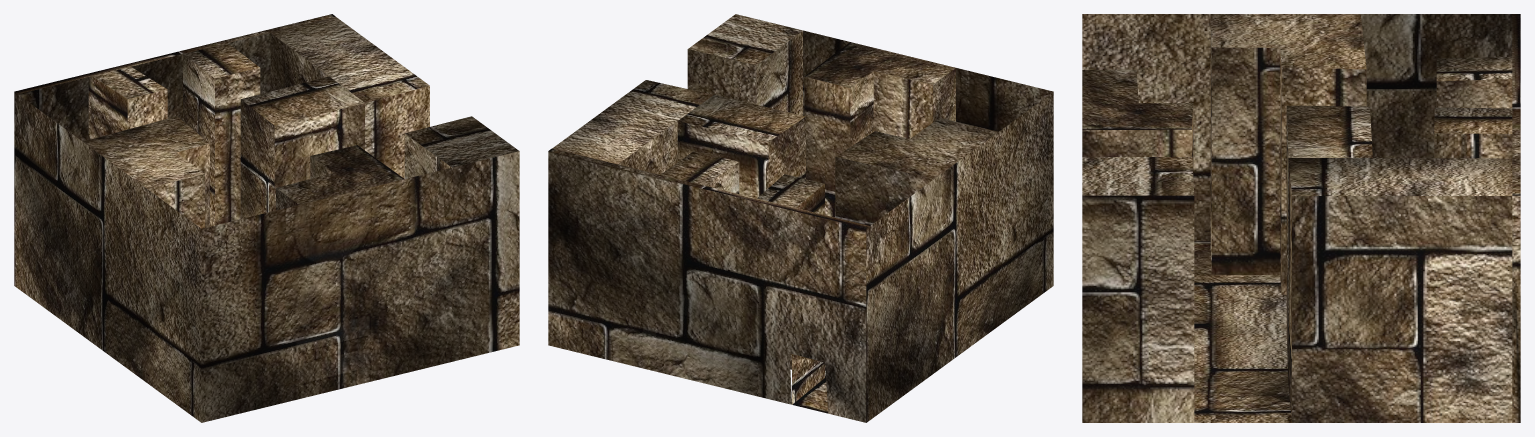
File: labyrinth.obj
3 renders of one model, left to right at view 1: azimuth 30°, elevation 25°; view 2: azimuth 150°, elevation 25°; view 3: azimuth 270°, elevation 25°, orthographic. The views are drawn at different scales.
Visible parts, largest first — view 1: Cube; view 2: Cube; view 3: Cube.
Part boxes in pixels (x1,y1,x2,y2): Cube: [14, 14, 519, 422]; Cube: [548, 14, 1053, 422]; Cube: [1082, 14, 1520, 422].
Size of the model in its own units: 6 by 3.5 by 6.12.
